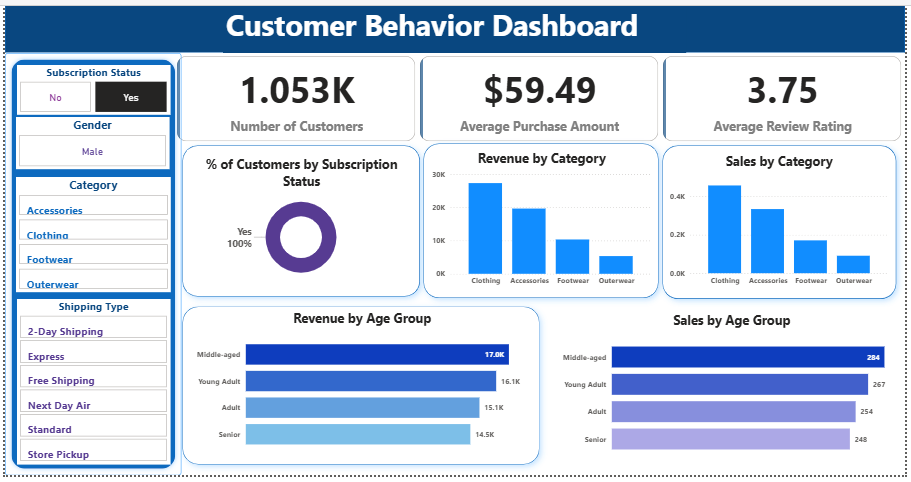

This screenshot's page, from the dashboard's own definition file:
{"tool":"powerbi","page":{"name":"Page 1","canvas":[1500,820],"ordinal":0},"visuals":[{"type":"cardVisual","fields":{"Data":["customer.Number of Customers","customer.Average Purchase Amount","customer.Average Review Rating"]},"box":[282,116,1218,152],"z":0},{"type":"shape","box":[0,0,1500,116],"z":1000},{"type":"textbox","box":[363,31.5,772.2,85.2],"z":2000},{"type":"shape","box":[282,256,424,280],"z":3000},{"type":"donutChart","title":"% of Customers by Subscription Status","fields":{"Category":["customer.subscription_status"],"Y":["CountNonNull(customer.customer_id)"]},"box":[308,276,370,238],"z":4000},{"type":"shape","box":[684,254,420,286],"z":5000},{"type":"shape","box":[1082,256,418,284],"z":6000},{"type":"clusteredColumnChart","title":"Revenue by Category","fields":{"Y":["Sum(customer.purchase_amount)"],"Category":["customer.category"]},"box":[706,276,376,238],"z":7000},{"type":"clusteredColumnChart","title":"Sales by Category","fields":{"Y":["CountNonNull(customer.customer_id)"],"Category":["customer.category"]},"box":[1104,282,374,232],"z":8000},{"type":"shape","box":[0,116.7,294.4,703.7],"z":9000},{"type":"advancedSlicerVisual","title":"Subscription Status","fields":{"Values":["customer.subscription_status"]},"box":[20.4,137,255.6,83.3],"z":10000},{"type":"advancedSlicerVisual","title":"Gender","fields":{"Values":["customer.gender"]},"box":[18.5,224.1,255.6,87],"z":11000},{"type":"advancedSlicerVisual","title":"Category","fields":{"Values":["customer.category"]},"box":[18.5,324.1,257.4,190.7],"z":12000},{"type":"advancedSlicerVisual","title":"Shipping Type","fields":{"Values":["customer.shipping_type"]},"box":[20.4,525.9,255.6,275.9],"z":13000},{"type":"clusteredBarChart","title":"Sales by Age Group","fields":{"Y":["CountNonNull(customer.customer_id)"],"Category":["customer.age_group"]},"box":[924.1,546.3,575.9,255.6],"z":14000},{"type":"shape","box":[281.7,525,623.3,291.7],"z":15000},{"type":"clusteredBarChart","title":"Revenue by Age Group","fields":{"Y":["Sum(customer.purchase_amount)"],"Category":["customer.age_group"]},"box":[314,544,564,250],"z":16000}]}

Visuals, with their boxes in screenshot pixels (x1, y1, x2, y2):
cardVisual - customer.Number of Customers x customer.Average Purchase Amount: (169, 51, 901, 142)
shape: (0, 0, 901, 51)
textbox: (218, 0, 682, 51)
shape: (169, 135, 424, 303)
"% of Customers by Subscription Status" donutChart: (185, 147, 407, 290)
shape: (411, 134, 663, 305)
shape: (650, 135, 901, 305)
"Revenue by Category" clusteredColumnChart: (424, 147, 650, 290)
"Sales by Category" clusteredColumnChart: (663, 150, 888, 290)
shape: (0, 51, 177, 474)
"Subscription Status" advancedSlicerVisual: (12, 63, 166, 113)
"Gender" advancedSlicerVisual: (11, 116, 165, 168)
"Category" advancedSlicerVisual: (11, 176, 166, 290)
"Shipping Type" advancedSlicerVisual: (12, 297, 166, 462)
"Sales by Age Group" clusteredBarChart: (555, 309, 901, 463)
shape: (169, 296, 543, 471)
"Revenue by Age Group" clusteredBarChart: (189, 308, 527, 458)
